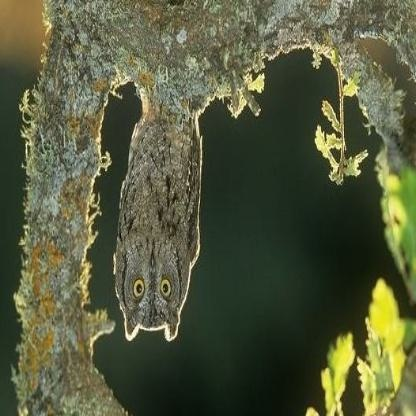Owl: (116, 92, 201, 338)
